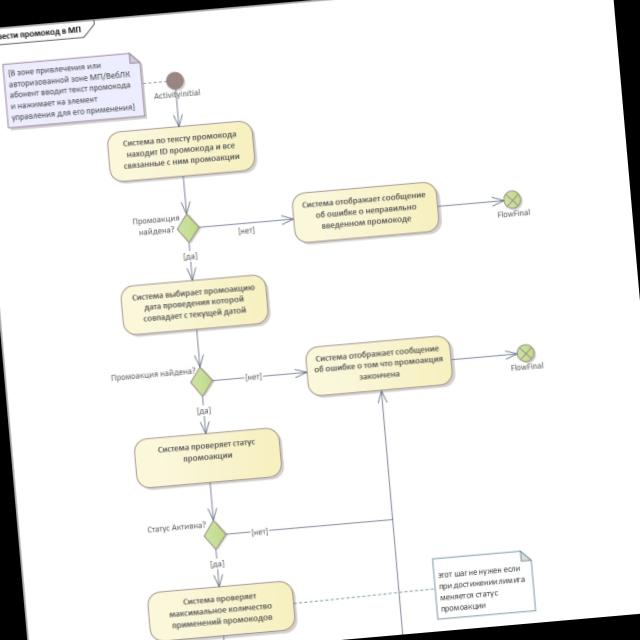arrow: (215, 389, 399, 538), (198, 212, 294, 234), (211, 365, 307, 387), (437, 194, 504, 213), (451, 347, 517, 366), (208, 549, 226, 587), (195, 394, 212, 434), (182, 241, 199, 280), (176, 176, 192, 215), (190, 329, 206, 368), (204, 482, 220, 521), (169, 89, 185, 127)
circle: (164, 71, 185, 92), (504, 190, 521, 208), (518, 344, 535, 362)
diamond: (187, 368, 216, 397), (200, 521, 229, 550), (174, 215, 202, 243)
rectangle: (107, 119, 256, 183), (291, 181, 440, 244), (304, 335, 453, 397), (121, 274, 270, 336), (134, 427, 282, 488), (147, 581, 296, 640)
text_region: (5, 55, 137, 125), (437, 563, 529, 613), (110, 367, 196, 383), (131, 214, 181, 238), (147, 521, 206, 534), (153, 87, 203, 102), (497, 207, 531, 219), (510, 360, 544, 371), (237, 224, 255, 236), (244, 370, 262, 382), (250, 526, 268, 537), (182, 251, 198, 262), (210, 558, 225, 569), (196, 405, 211, 415)
